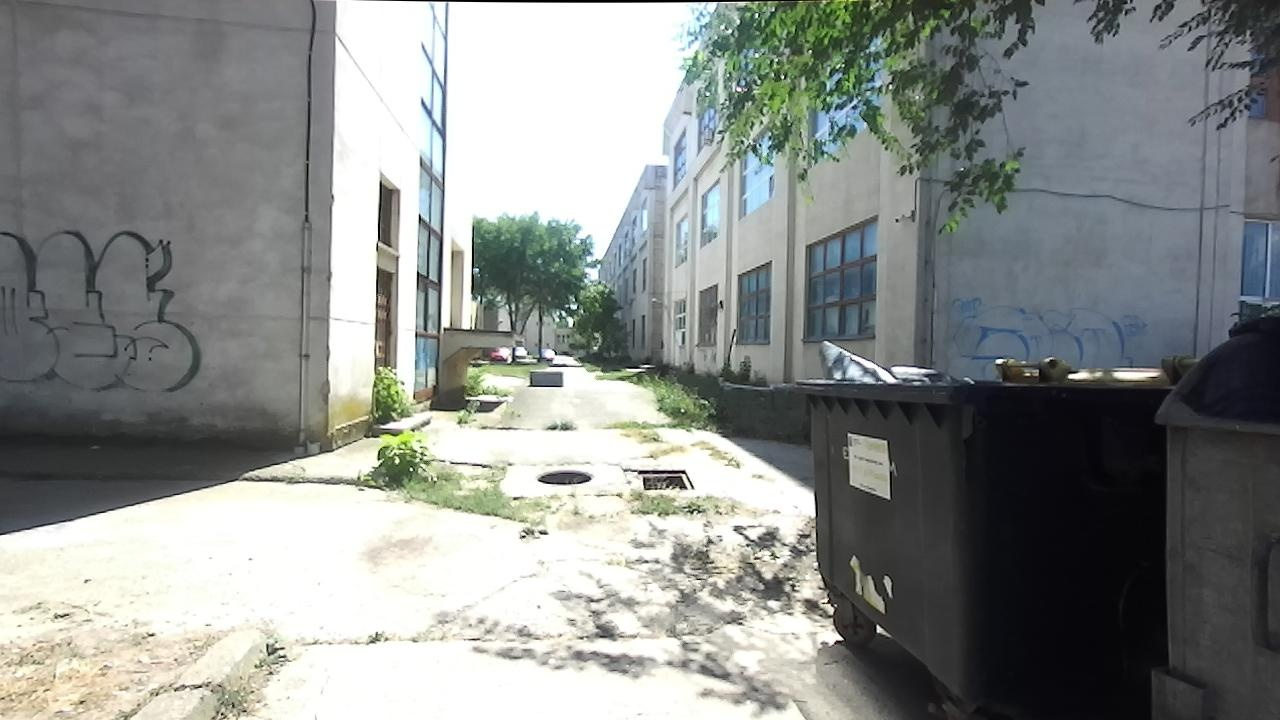drain: (633, 464, 698, 493), (535, 464, 595, 488)
